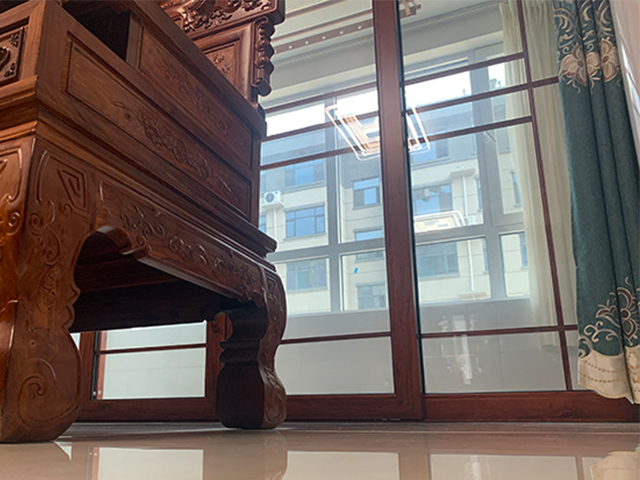curtain: (550, 1, 640, 403)
sofa: (1, 1, 286, 443)
